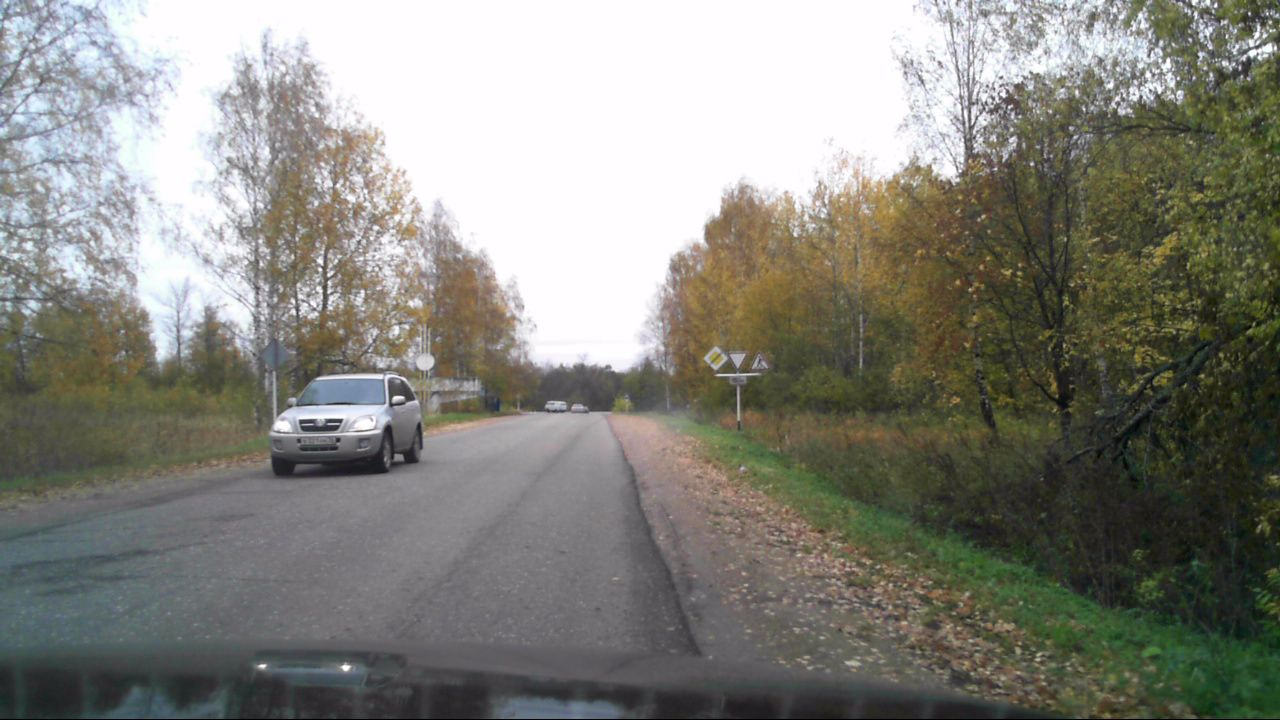main road: (702, 345, 728, 371)
